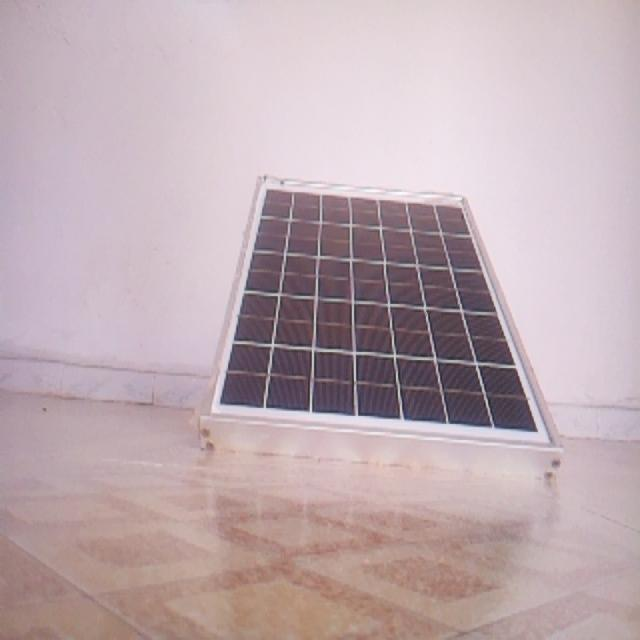Normal Solar Panel: (200, 176, 564, 476)
